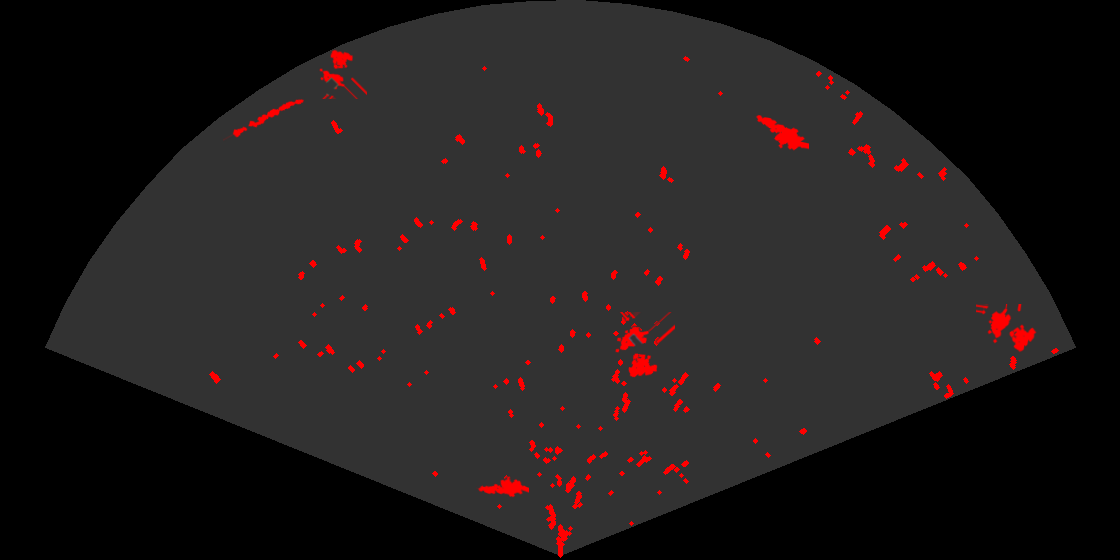cage: (614, 312, 675, 379), (976, 304, 1038, 354), (318, 48, 367, 99)
chain: (223, 97, 306, 142)
frogman: (754, 113, 809, 152), (476, 475, 529, 499)
